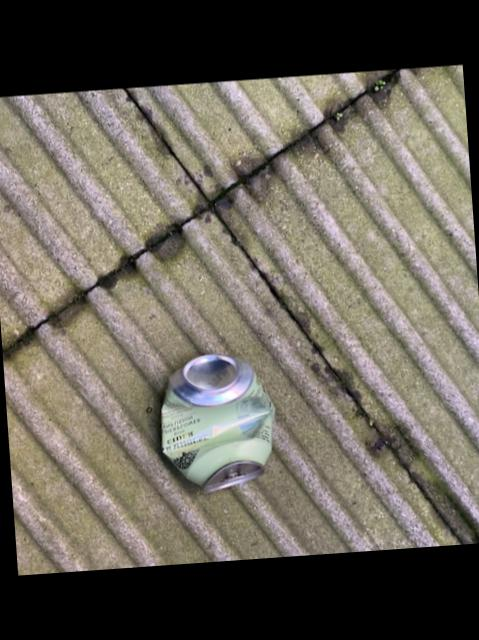metal: (161, 356, 275, 493)
